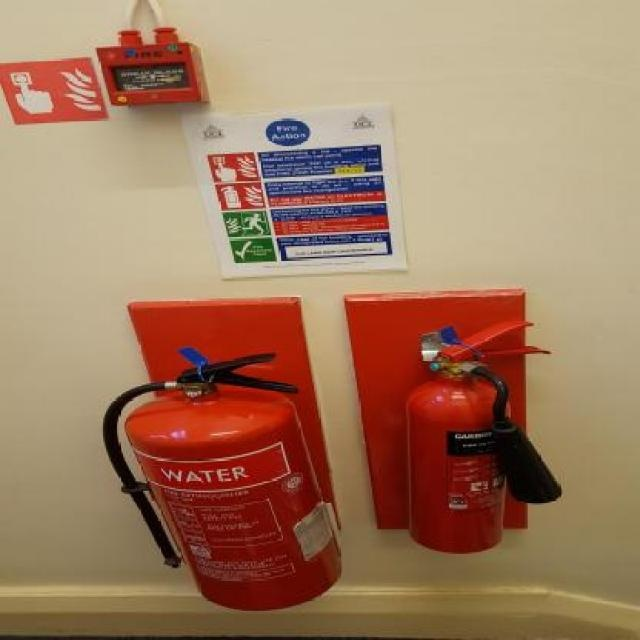fire extinguisher: (100, 353, 342, 612), (406, 316, 565, 553)
